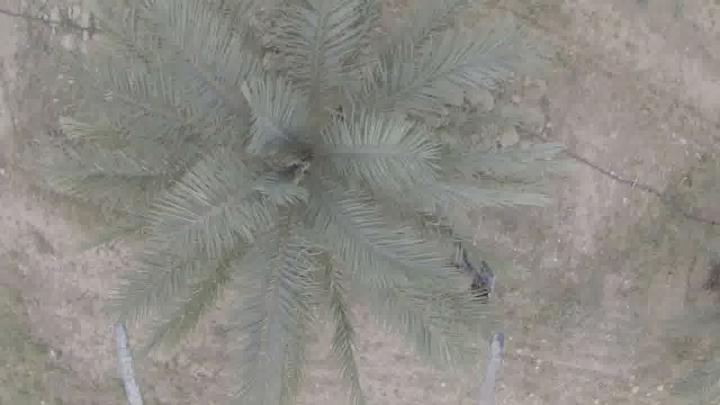Date-Palm-Crown: (159, 37, 444, 288)
